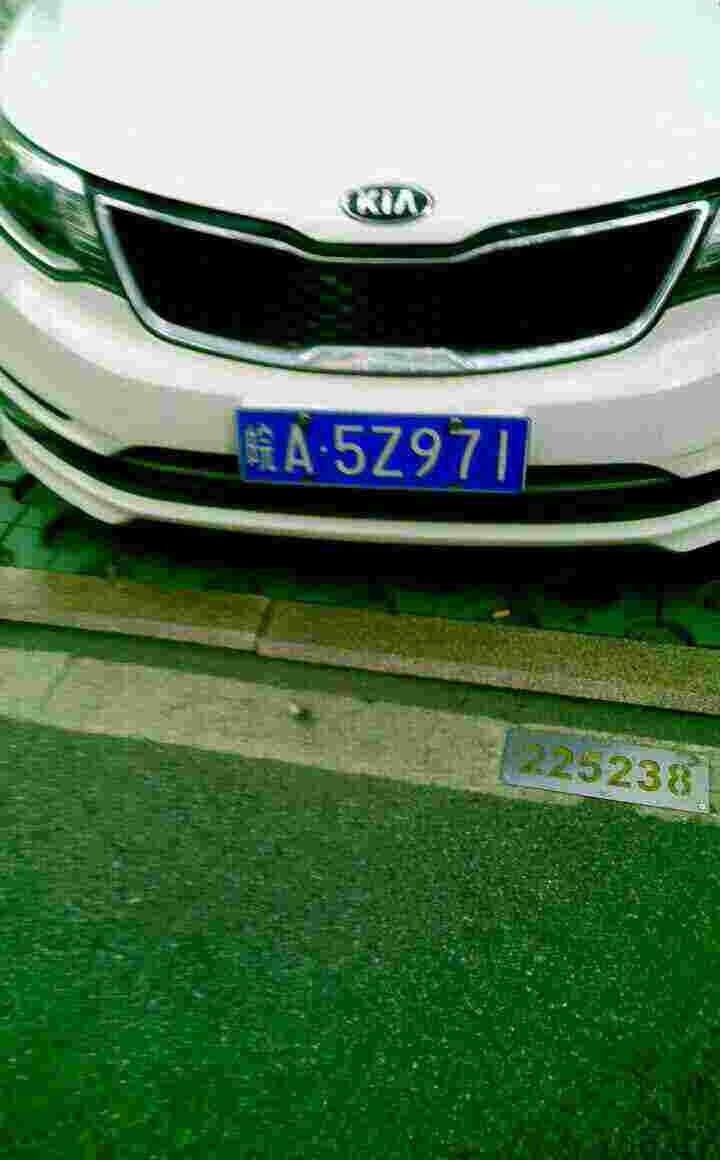license_plate: (230, 405, 534, 505)
